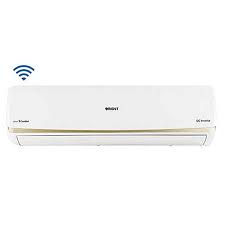ac: (5, 82, 220, 156)
